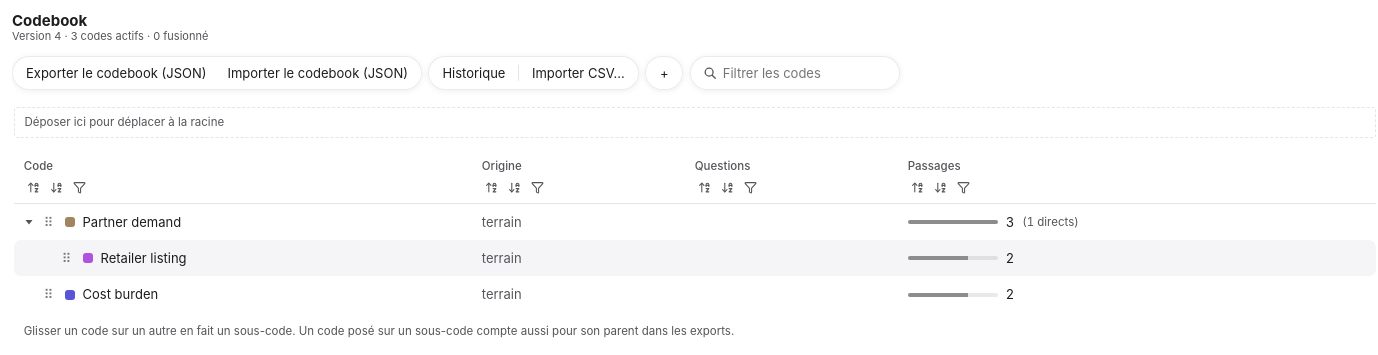
Test case: codebook page › filters without accents
Expected: the text "Cost burden" is shown, [82,285,158,304]
Step 1. Type "COST" into the search field labelled "Filtrer les codes" → (805, 73), box [723,64,887,82]
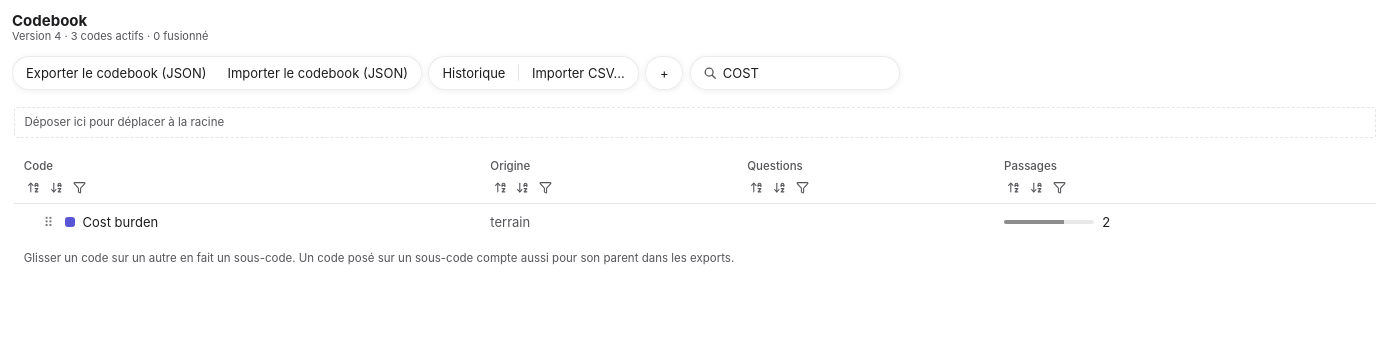
Expected: the text "Cost burden" is shown, [82,213,158,231]
Result: the text "Partner demand" is gone
